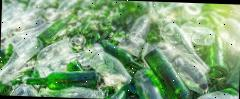glass: (142, 47, 193, 99), (26, 70, 98, 90), (131, 66, 165, 99)
